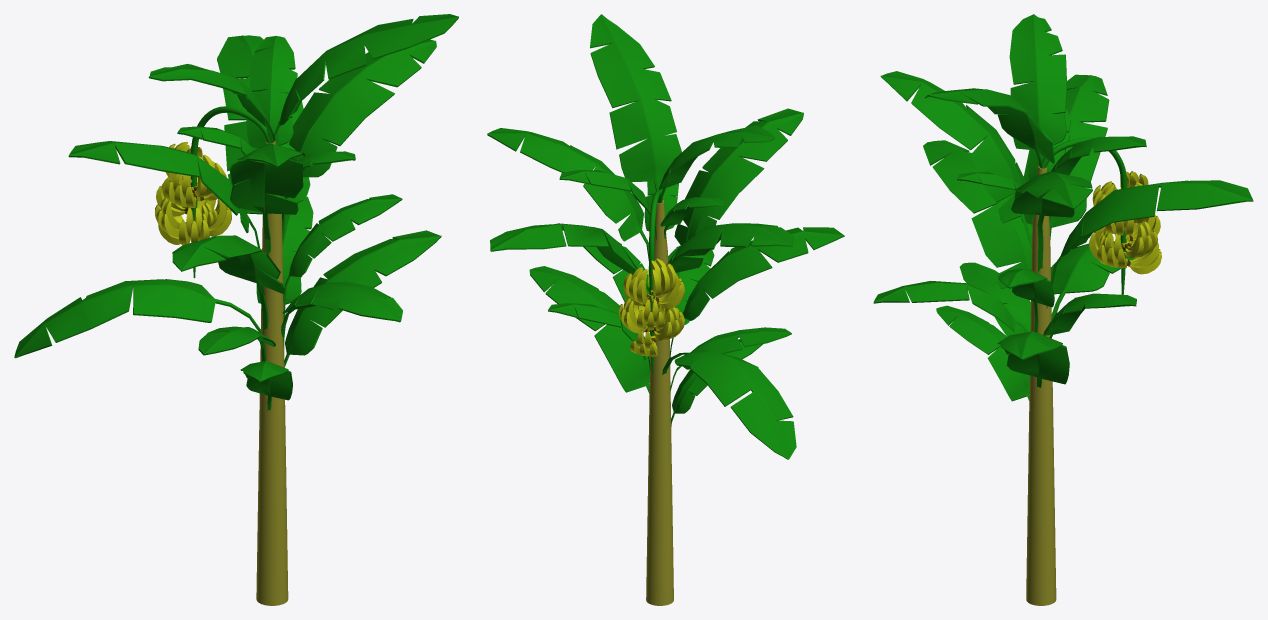
File: BananaTreeBanana.fbx
The picture shows the model from 3 angles, left to right: view 1: azimuth 30°, elevation 25°; view 2: azimuth 150°, elevation 25°; view 3: azimuth 270°, elevation 25°; orthographic projection. The views are drawn at different scales.
Parts seen in each view (by area): view 1: Leaves, Trunk, Banana, Branch; view 2: Leaves, Trunk, Banana, Branch; view 3: Leaves, Trunk, Banana, Branch.
Part boxes in pixels (x1,y1,x2,y2): Leaves: (14,14,458,410); Trunk: (256,141,288,605); Banana: (155,142,231,245); Branch: (190,106,270,278); Leaves: (487,14,844,459); Trunk: (646,200,673,605); Banana: (618,258,684,356); Branch: (649,190,662,374); Leaves: (873,14,1253,401); Trunk: (1026,166,1056,605); Banana: (1089,171,1161,274); Branch: (1042,137,1127,294).
Bounding box in the file's own units: 269 × 399 × 244.
